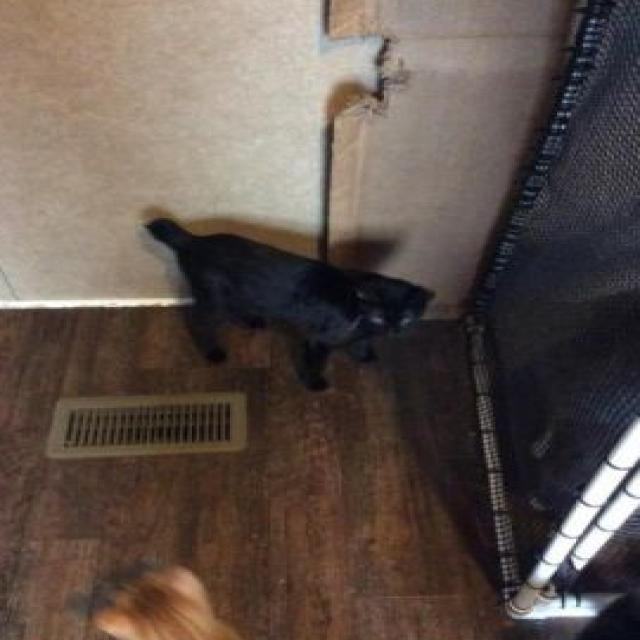American Bobtail: (141, 211, 441, 398)
